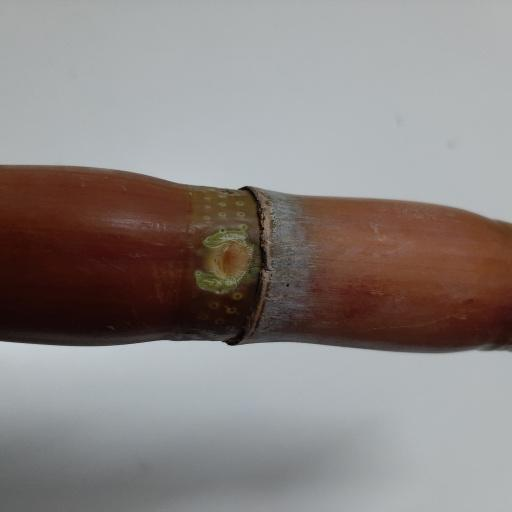Damage_Bud: (196, 232, 254, 296)
